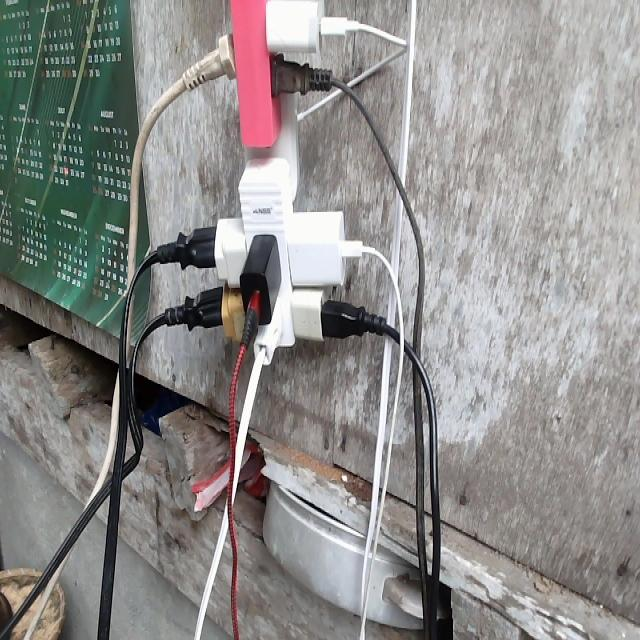-: (159, 0, 389, 359)
